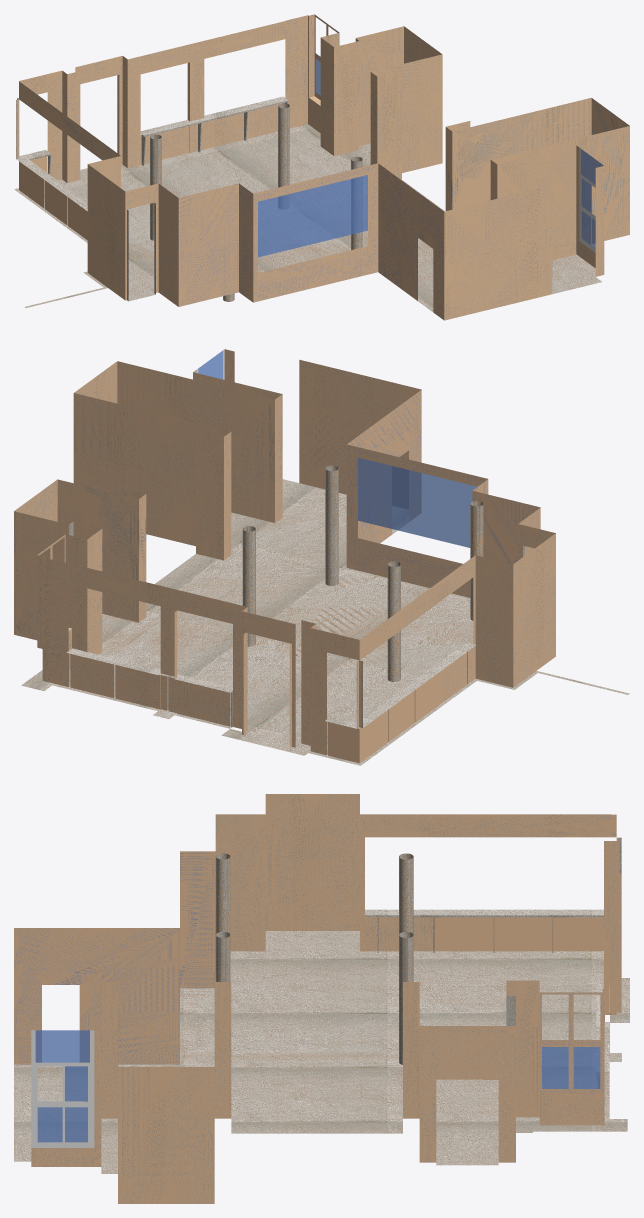
The model's file is COM034.obj.
The picture shows the model from 3 angles, top to bottom: view 1: azimuth 30°, elevation 25°; view 2: azimuth 150°, elevation 25°; view 3: azimuth 270°, elevation 25°; orthographic projection. The views are drawn at different scales.
Parts seen in each view (by area): view 1: Mesh1 Group1 Model, Mesh4 Group1 Model, Mesh2 Group1 Model, Mesh5 Group1 Model, Mesh6 Group1 Model; view 2: Mesh1 Group1 Model, Mesh2 Group1 Model, Mesh5 Group1 Model, Mesh4 Group1 Model, Mesh8 Group1 Model, Mesh6 Group1 Model, Mesh3 Group1 Model; view 3: Mesh1 Group1 Model, Mesh6 Group1 Model, Mesh3 Group1 Model, Mesh5 Group1 Model, Mesh4 Group1 Model, Mesh2 Group1 Model.
Boxes of the visible parts, box(x1,y1,x2,y2) form: Mesh1 Group1 Model: box(14, 14, 629, 320); Mesh4 Group1 Model: box(278, 103, 289, 209); Mesh2 Group1 Model: box(351, 156, 362, 249); Mesh5 Group1 Model: box(150, 134, 161, 240); Mesh6 Group1 Model: box(19, 161, 43, 207); Mesh1 Group1 Model: box(14, 349, 629, 765); Mesh2 Group1 Model: box(325, 465, 338, 585); Mesh5 Group1 Model: box(387, 561, 400, 681); Mesh4 Group1 Model: box(242, 526, 255, 646); Mesh8 Group1 Model: box(328, 722, 359, 763); Mesh6 Group1 Model: box(359, 710, 388, 762); Mesh3 Group1 Model: box(470, 501, 483, 620); Mesh1 Group1 Model: box(14, 794, 629, 1203); Mesh6 Group1 Model: box(553, 917, 603, 951); Mesh3 Group1 Model: box(215, 853, 230, 934); Mesh5 Group1 Model: box(399, 853, 413, 934); Mesh4 Group1 Model: box(399, 932, 413, 1064); Mesh2 Group1 Model: box(215, 932, 230, 981).
Bounding box in the file's own units: 18.26 × 3.85 × 14.69.
Materials: 11 (6 with a texture image).
